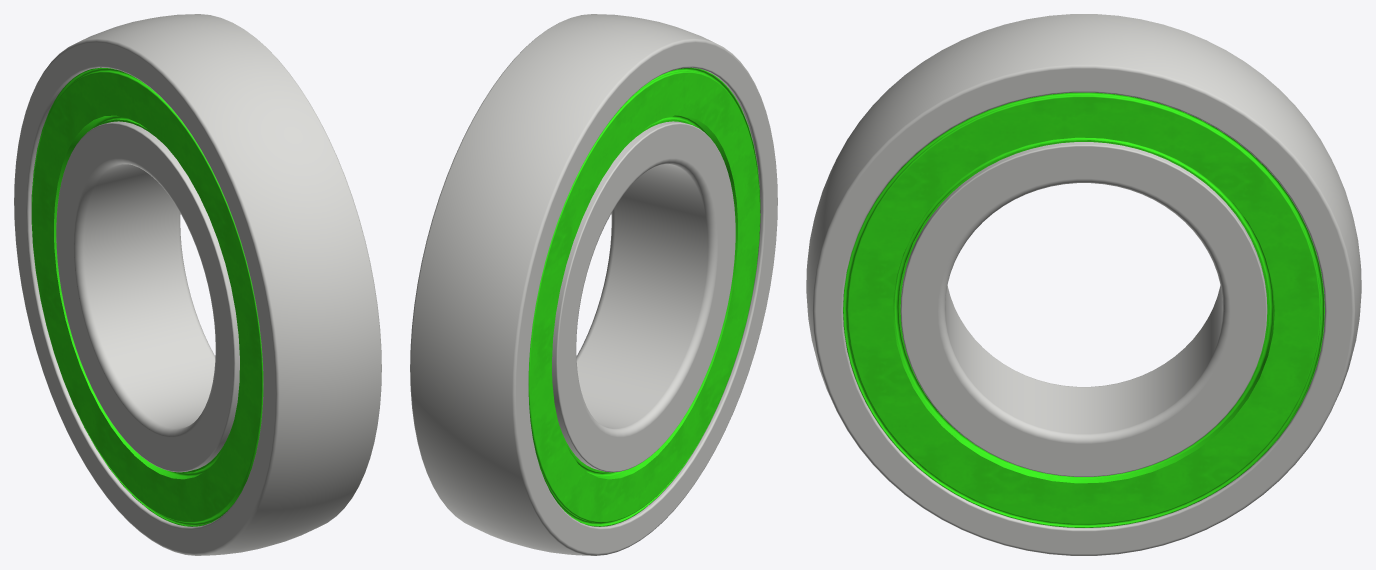
The picture shows the model from 3 angles, left to right: view 1: azimuth 30°, elevation 25°; view 2: azimuth 150°, elevation 25°; view 3: azimuth 270°, elevation 25°; orthographic projection. The views are drawn at different scales.
Parts seen in each view (by area): view 1: matte platinum, texture-3; view 2: matte platinum, texture-3; view 3: matte platinum, texture-3.
Boxes of the visible parts, <box> form: matte platinum: <box>14,14,381,555</box>; texture-3: <box>31,67,263,526</box>; matte platinum: <box>410,14,777,555</box>; texture-3: <box>528,67,760,526</box>; matte platinum: <box>806,14,1361,555</box>; texture-3: <box>843,92,1324,527</box>.
Size of the model in its own units: 0.018 by 0.08 by 0.08.
6 materials, 3 textured.
